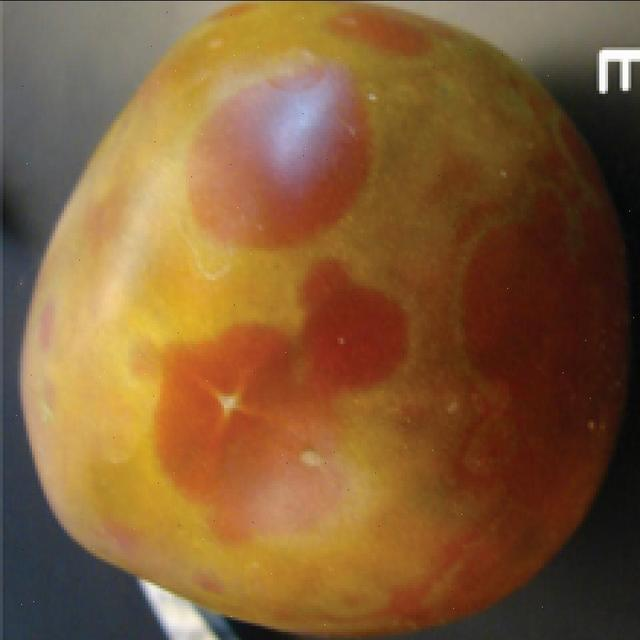Spotted wilt Virus Fruit: (10, 0, 423, 427)
